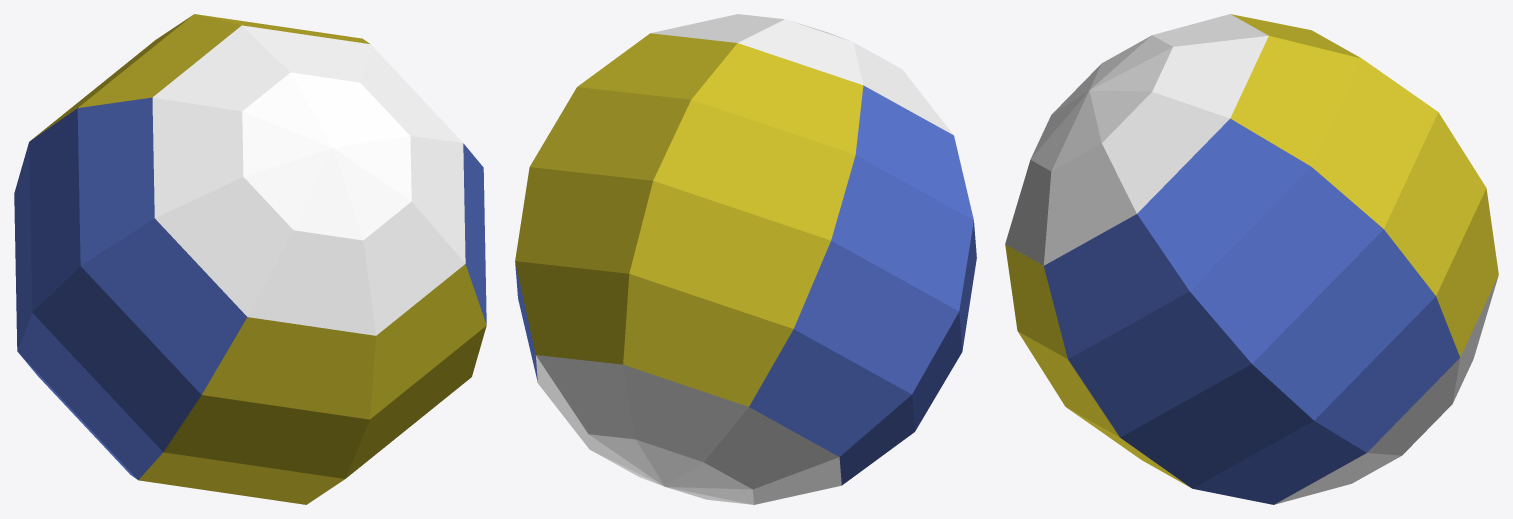
The model's file is beach-ball.glb.
3 renders of one model, left to right at view 1: azimuth 30°, elevation 25°; view 2: azimuth 150°, elevation 25°; view 3: azimuth 270°, elevation 25°, orthographic. The views are drawn at different scales.
Visible parts, largest first — view 1: White-material, Blue-material, Yellow-material; view 2: Yellow-material, Blue-material, White-material; view 3: Blue-material, Yellow-material, White-material.
Part boxes in pixels (bbox=[...]): White-material: bbox=[152, 25, 465, 335]; Blue-material: bbox=[14, 97, 486, 480]; Yellow-material: bbox=[30, 14, 486, 504]; Yellow-material: bbox=[515, 33, 863, 406]; Blue-material: bbox=[515, 85, 976, 485]; White-material: bbox=[535, 14, 953, 504]; Blue-material: bbox=[1044, 118, 1459, 504]; Yellow-material: bbox=[1005, 14, 1498, 487]; White-material: bbox=[1005, 14, 1498, 504].
Size of the model in its own units: 2 by 2 by 2.
